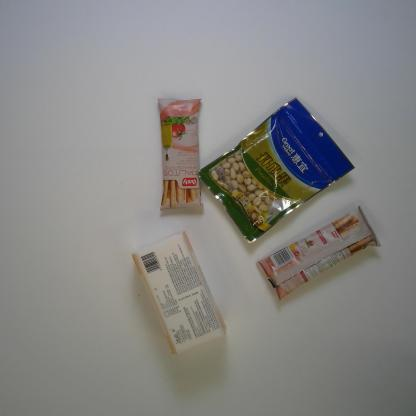Dessert: (256, 201, 382, 303), (155, 94, 206, 215)
Dried Fruit: (194, 95, 356, 245)
Tissue: (131, 226, 229, 357)
